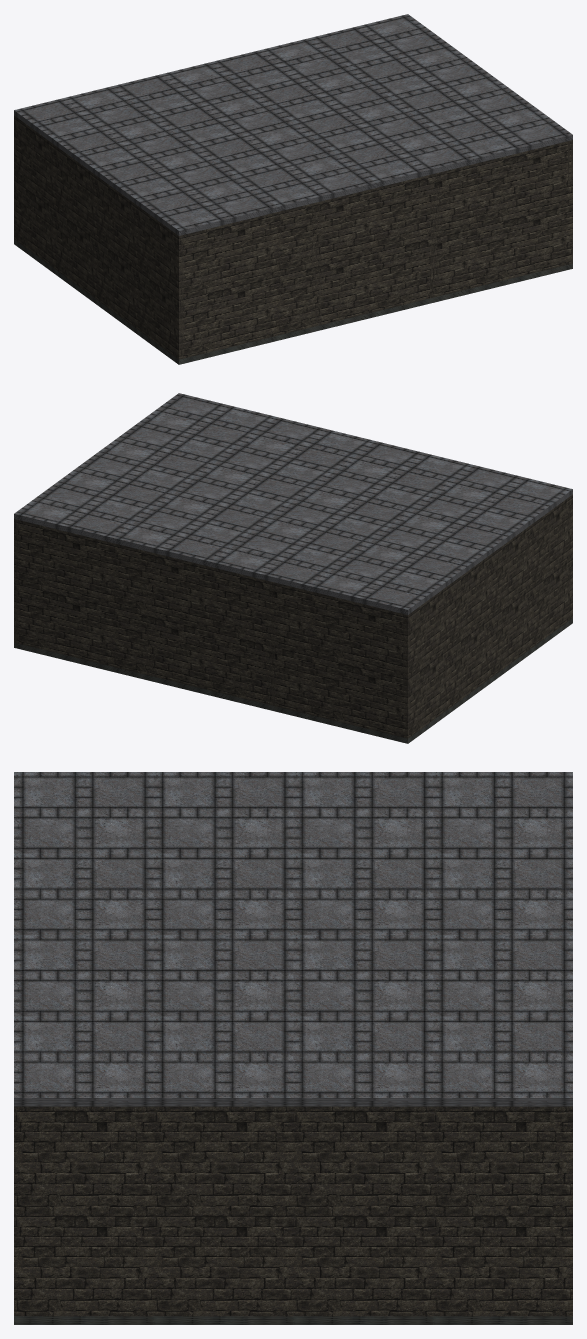
Rendered from dungeon3.fbx.
3 views of the same model, one above another, from view 1: azimuth 30°, elevation 25°; view 2: azimuth 150°, elevation 25°; view 3: azimuth 270°, elevation 25° (orthographic). The views are drawn at different scales.
Parts seen in each view (by area): view 1: Roof, Wall2, Opening1, Floor, JailWall4, JailWall3; view 2: Roof, Wall4, Opening1, Floor, JailWaill6; view 3: Roof, Opening2, Floor.
Part boxes in pixels (x1,y1,x2,y2): Roof: (14, 14, 572, 235); Wall2: (179, 140, 572, 359); Opening1: (14, 115, 183, 359); Floor: (14, 239, 572, 364); JailWall4: (312, 202, 321, 326); JailWall3: (430, 173, 439, 298); Roof: (14, 393, 572, 614); Wall4: (14, 519, 407, 738); Opening1: (403, 494, 572, 738); Floor: (14, 618, 572, 743); JailWaill6: (265, 580, 274, 705); Roof: (14, 772, 572, 1106); Opening2: (14, 1106, 572, 1316); Floor: (14, 1316, 572, 1324).
Size of what is drawn, in the model's own units: 4000 by 1300 by 2900.
